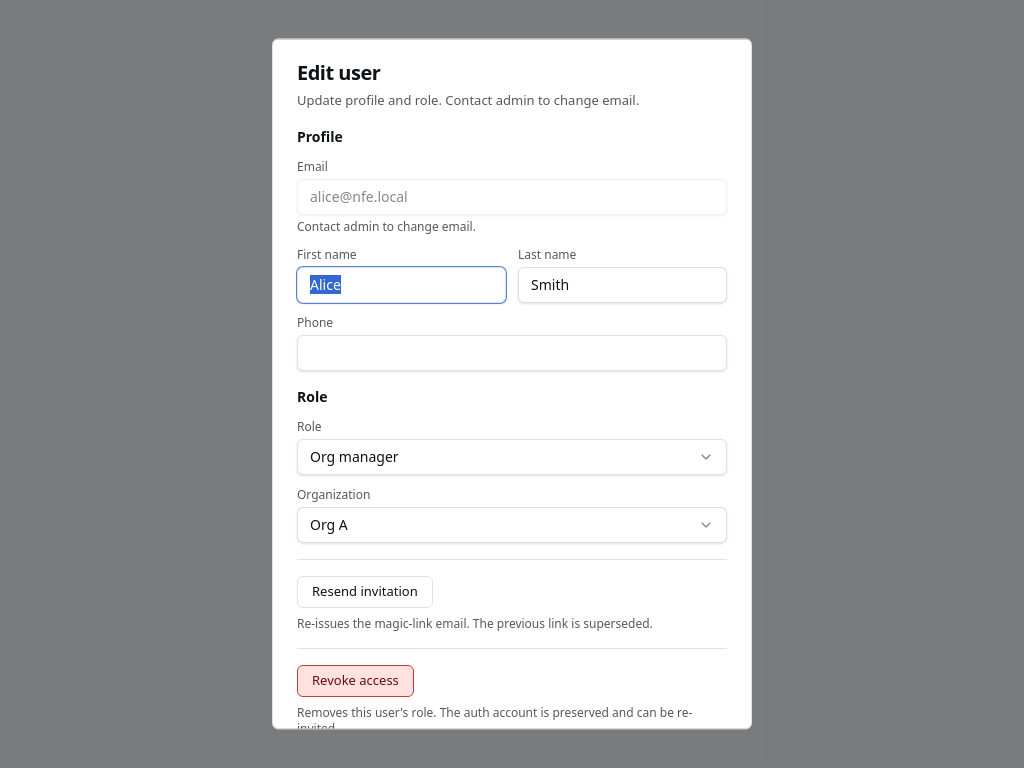
Test: EditUserDialog — resend invitation (UX5b / #184) › POSTs to /api/users/[id]/resend-invite and surfaces success banner
Click the button "Resend invitation": (365, 592) [297, 576, 433, 608]
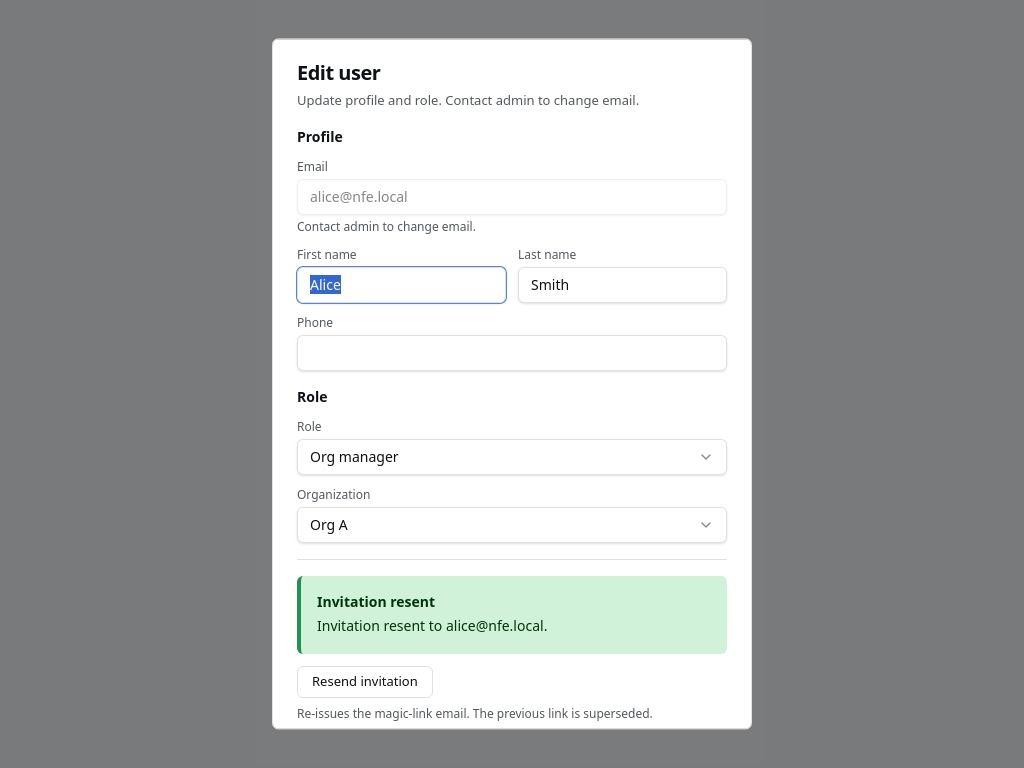
Result: the heading "Invitation resent" is shown at [317, 592, 435, 611]
Result: the text "Invitation resent to alice@nfe.local." is shown at [317, 616, 547, 635]
